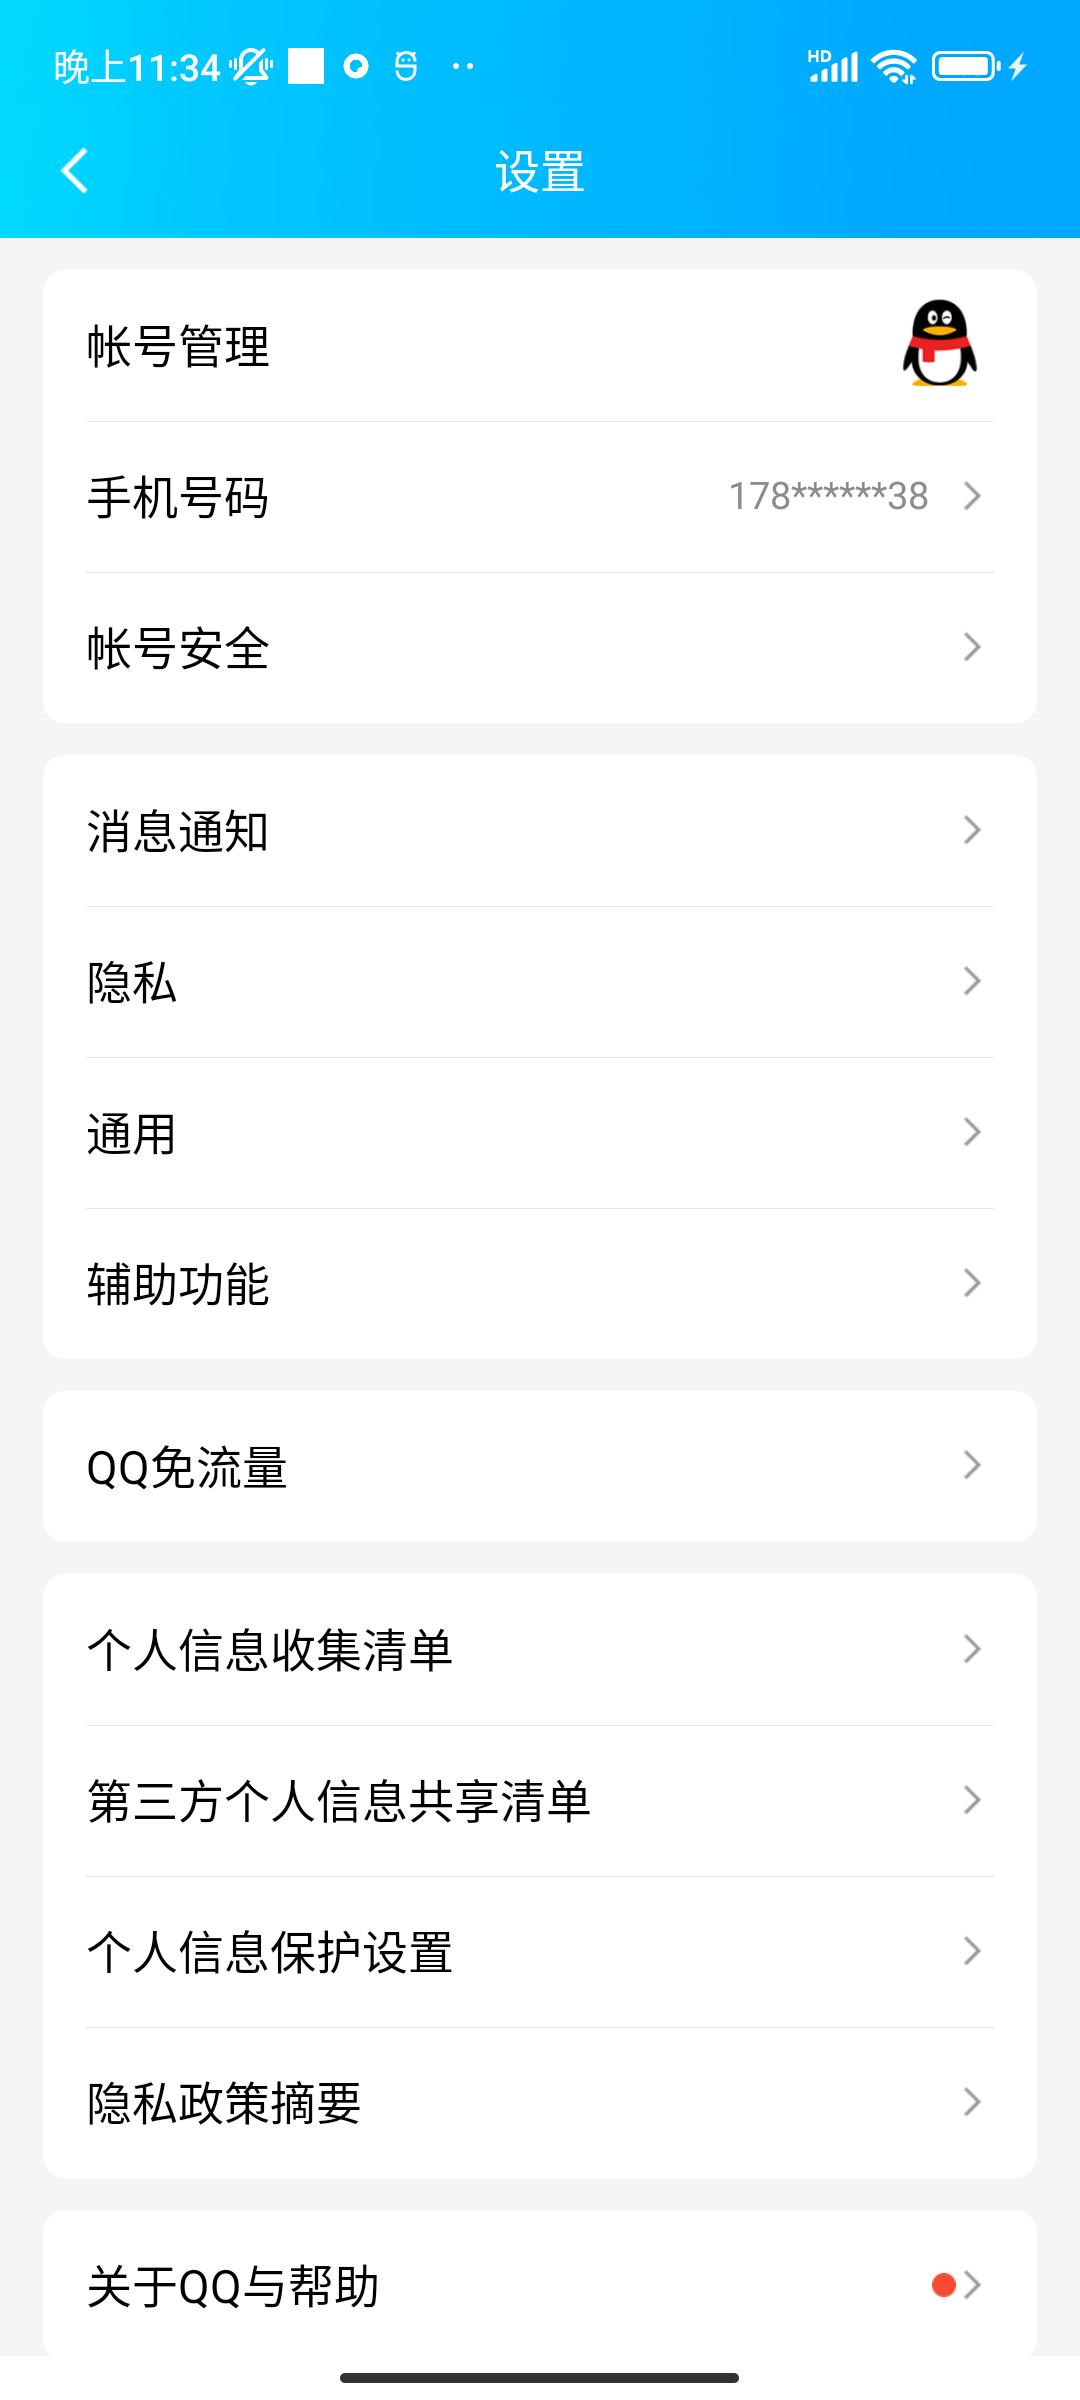ui_group: (54, 1393, 1020, 1554), (44, 427, 1017, 569), (41, 1743, 1013, 1880), (41, 768, 1033, 888)
